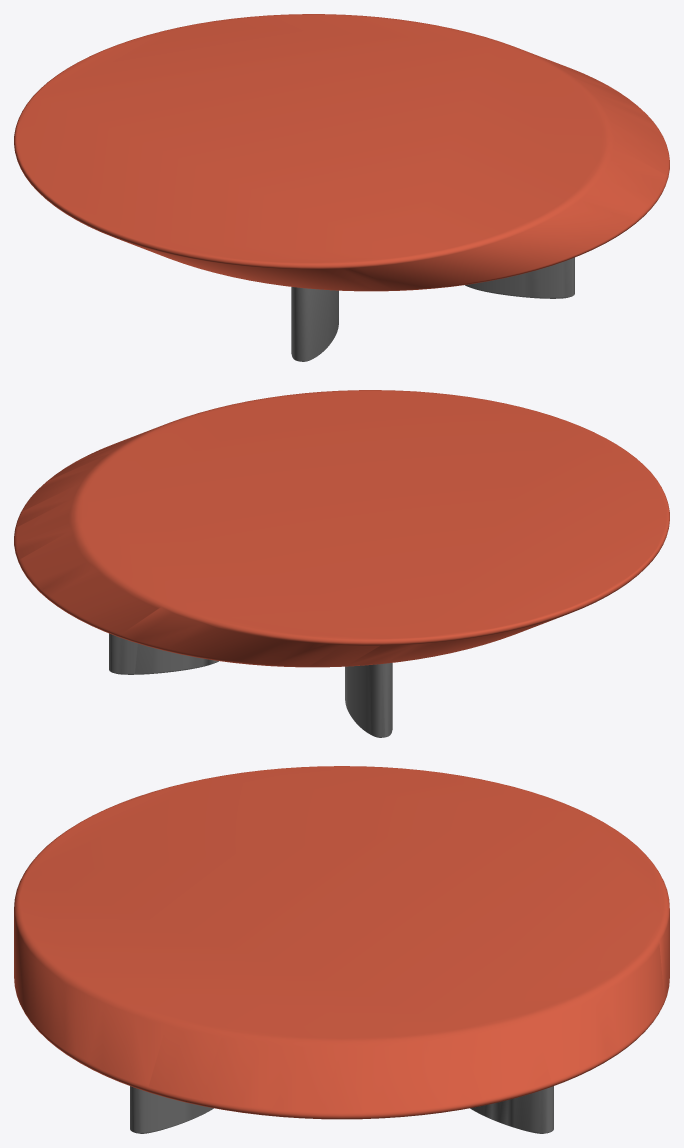
Rendered from designconnected-520-accordo-table-8210.optimized.glb.
3 renders of one model, top to bottom at view 1: azimuth 30°, elevation 25°; view 2: azimuth 150°, elevation 25°; view 3: azimuth 270°, elevation 25°, orthographic. The views are drawn at different scales.
Parts seen in each view (by area): view 1: Cassina_520_Accordo_Table_mat1; view 2: Cassina_520_Accordo_Table_mat1; view 3: Cassina_520_Accordo_Table_mat1.
Boxes of the visible parts, x1=… form: Cassina_520_Accordo_Table_mat1: x1=14, y1=14, x2=669, y2=361; Cassina_520_Accordo_Table_mat1: x1=14, y1=390, x2=669, y2=737; Cassina_520_Accordo_Table_mat1: x1=14, y1=766, x2=669, y2=1133.
Size of the model in its own units: 1.4 by 0.3 by 1.26.
